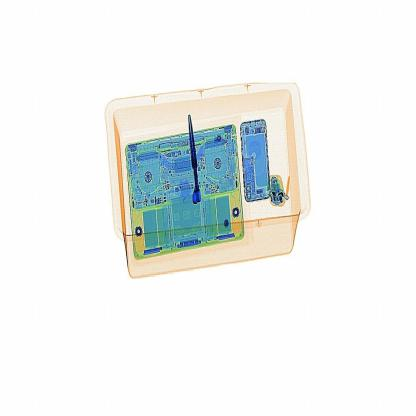gun: (184, 105, 212, 216)
